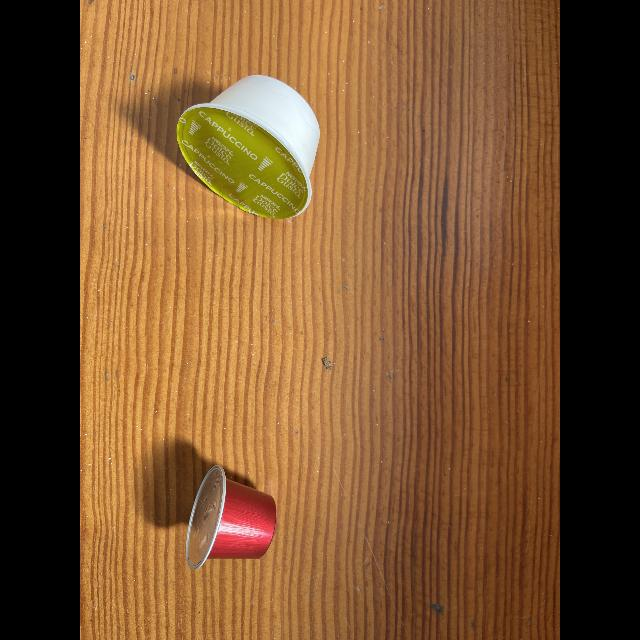intact_capsule: (172, 65, 332, 228), (177, 462, 287, 582)
